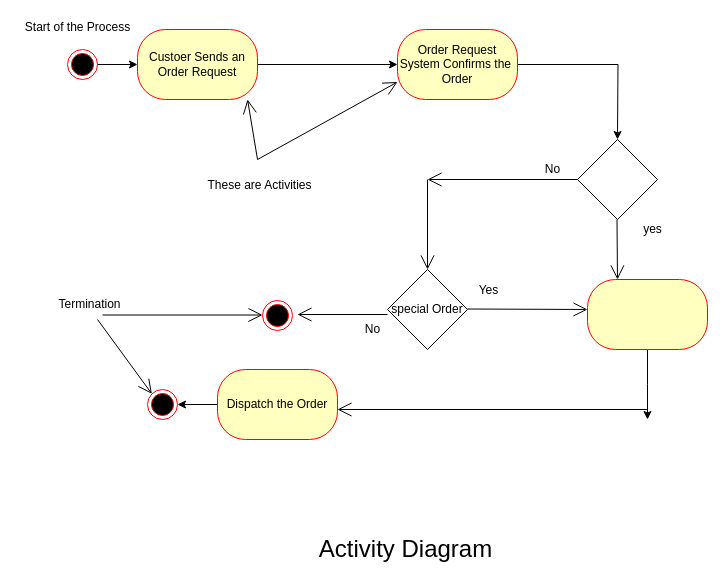
Image size: 725x581. Some labels were removed from this diagram. Here are the shapes that lost their labels. From the top down, the centre of each, then its label:
(617,179): Normal Order
(647,314): Confirm the Order
